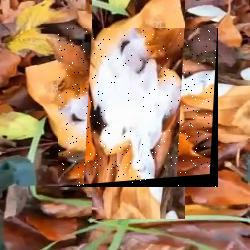restaffald: (58, 28, 218, 187)
